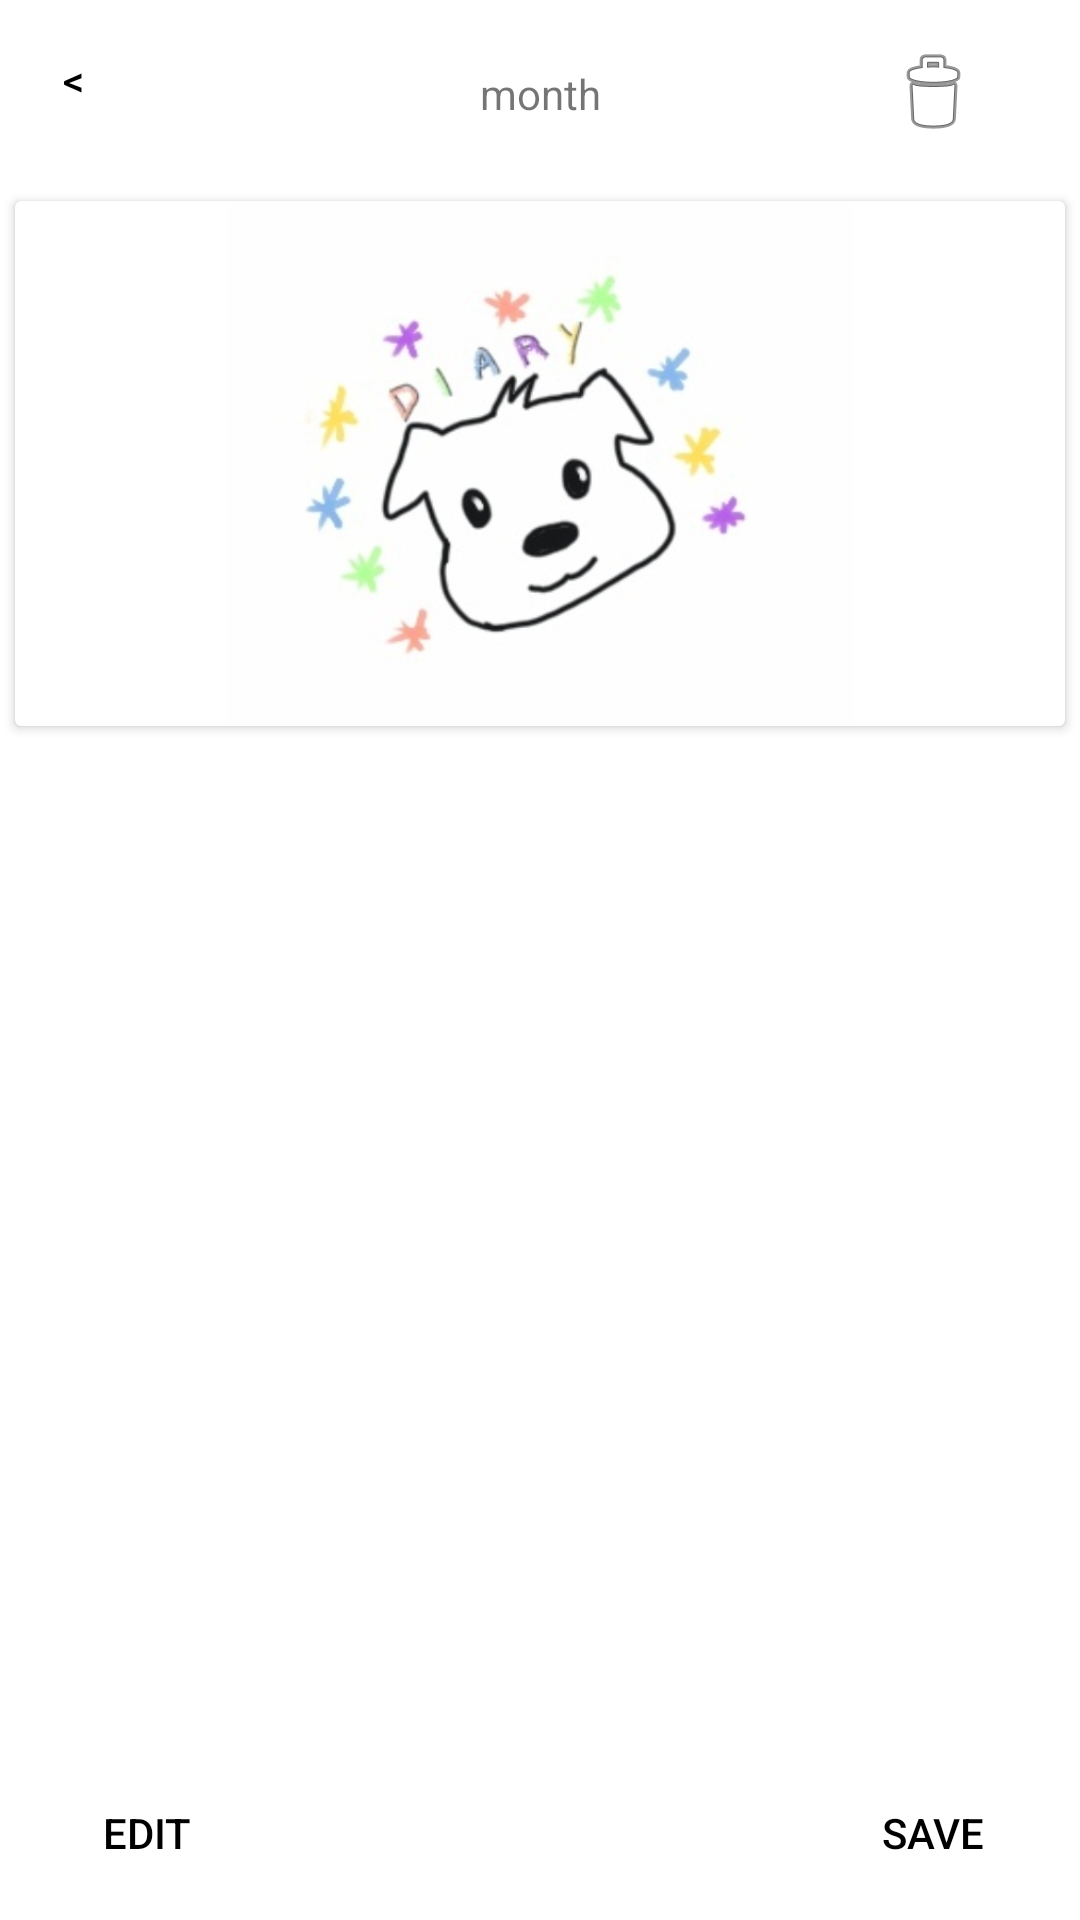

Named icons in this screenshot (1080×1920) and their bounding boxes, (x1, y1, x2, y2):
delete: (906, 54, 961, 129)
